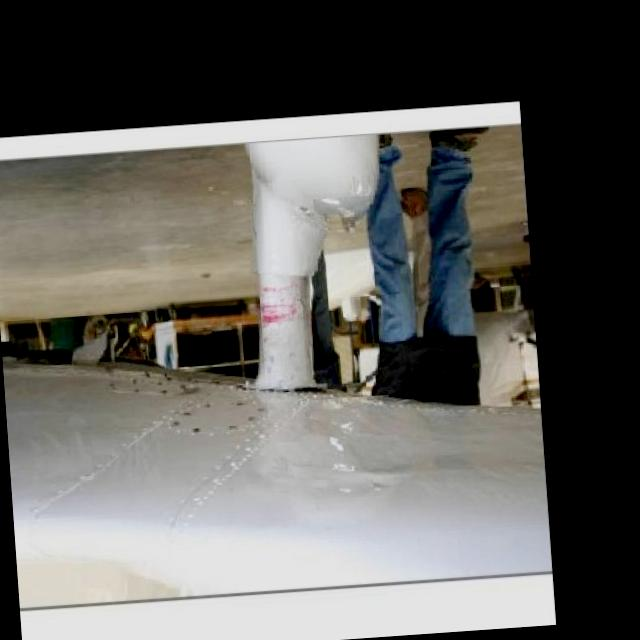dent: (318, 457, 372, 478)
